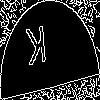K: (25, 25, 49, 75)
